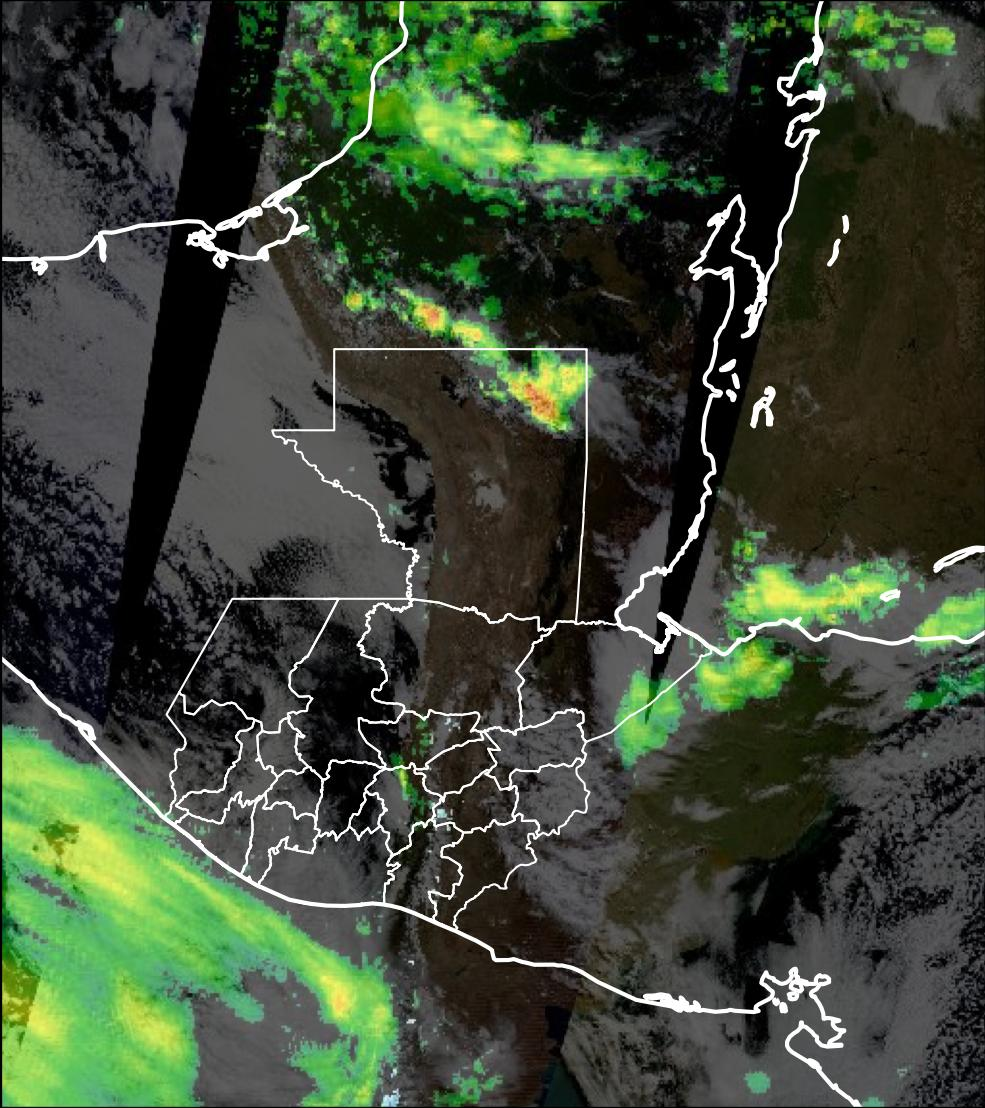precipitacion: (492, 352, 590, 444), (400, 294, 484, 347)
